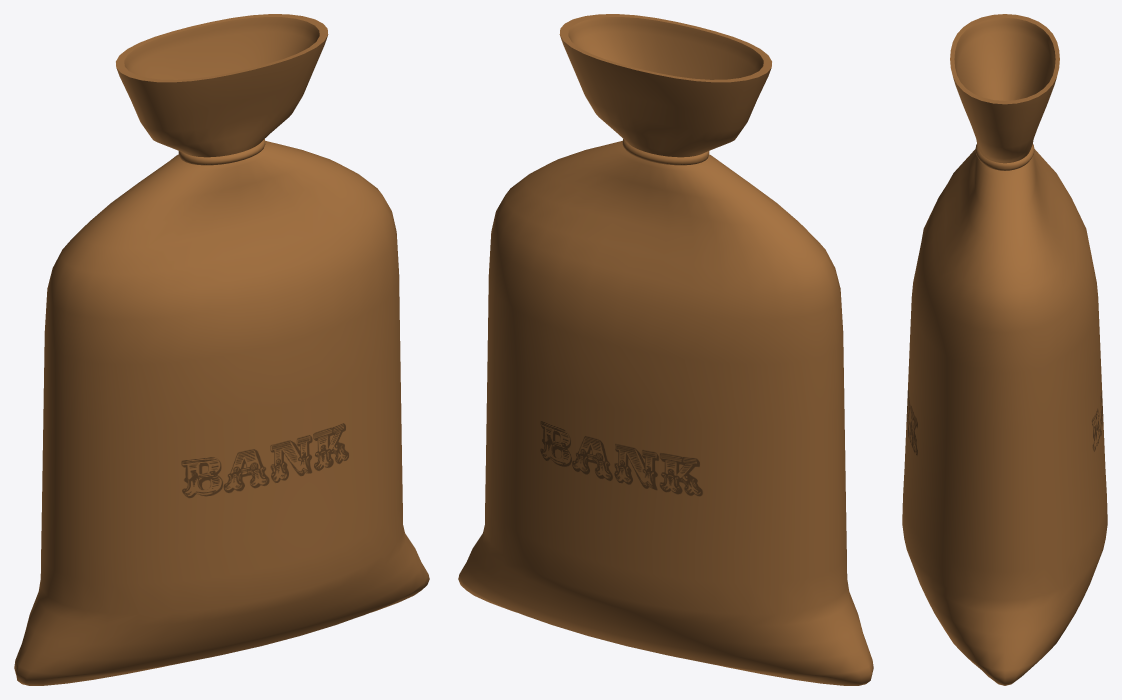
Rendered from moneyBag.obj.
3 renders of one model, left to right at view 1: azimuth 30°, elevation 25°; view 2: azimuth 150°, elevation 25°; view 3: azimuth 270°, elevation 25°, orthographic. The views are drawn at different scales.
Parts seen in each view (by area): view 1: Cylinder; view 2: Cylinder; view 3: Cylinder.
Boxes of the visible parts, x1=… form: Cylinder: x1=14, y1=14, x2=429, y2=685; Cylinder: x1=458, y1=14, x2=873, y2=685; Cylinder: x1=902, y1=14, x2=1107, y2=685.
Size of the model in its own units: 2.36 by 3.24 by 1.12.
